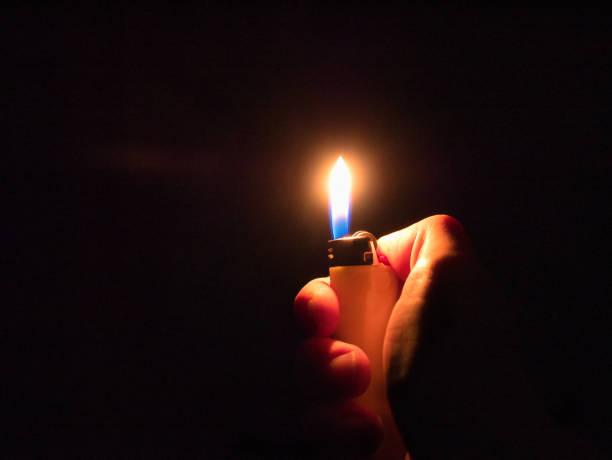Fire: (322, 153, 357, 237)
